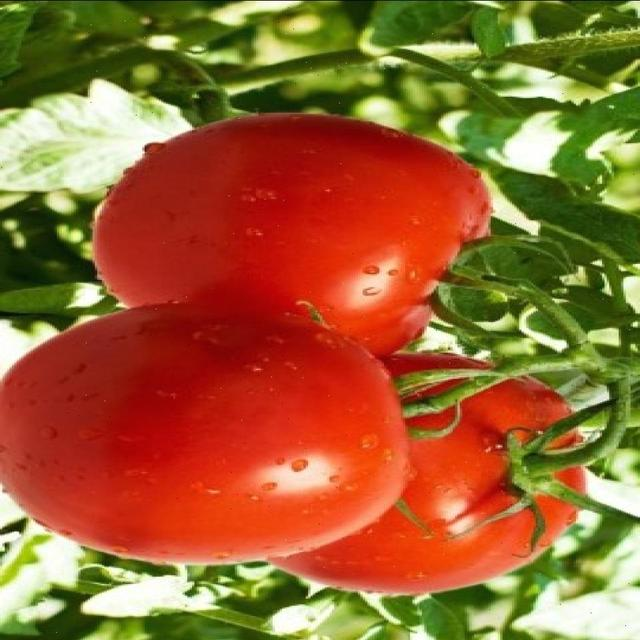Healthy Fruit: (129, 154, 296, 312)
